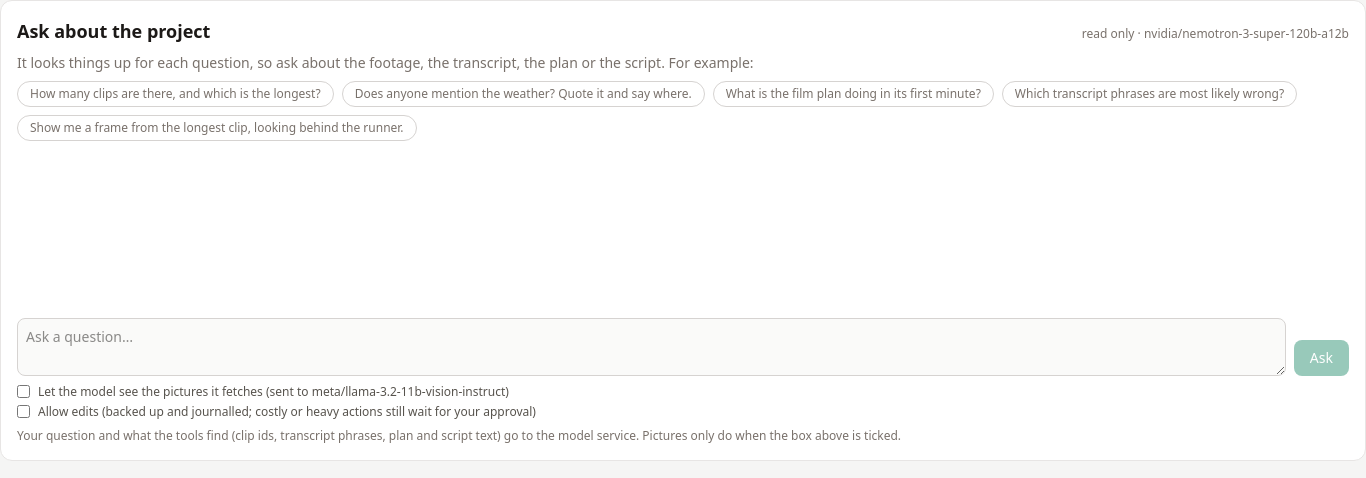
AskPage › shows the pictures the assistant fetched, each opening full size
Type "show me" into the text box named "Your question" at (651, 347), box [17,318,1286,376]
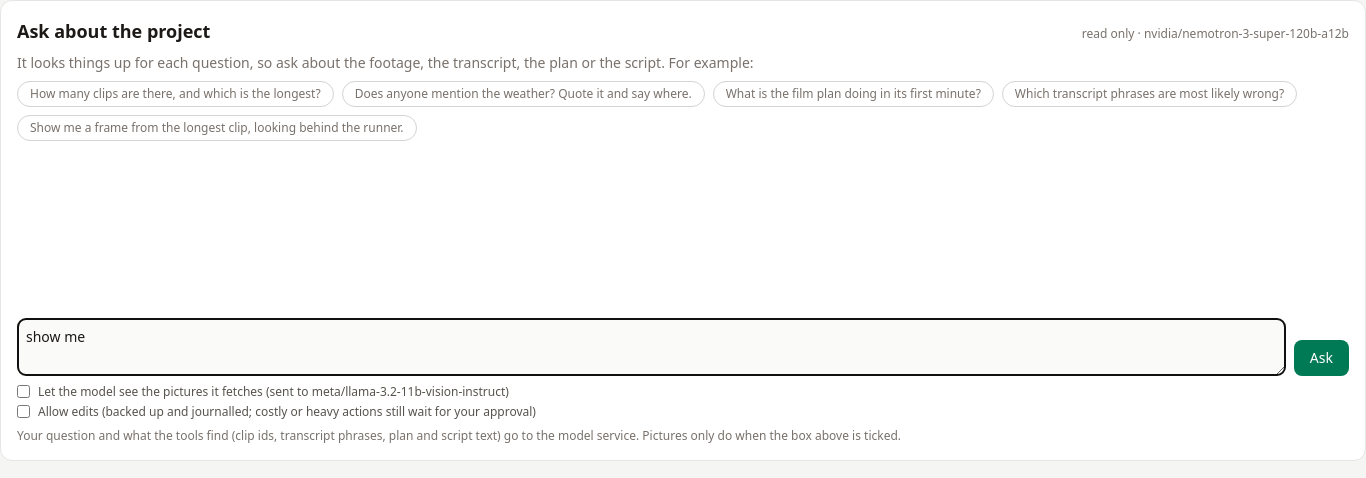
Click the button "Ask" at (1321, 358), box [1294,340,1349,376]
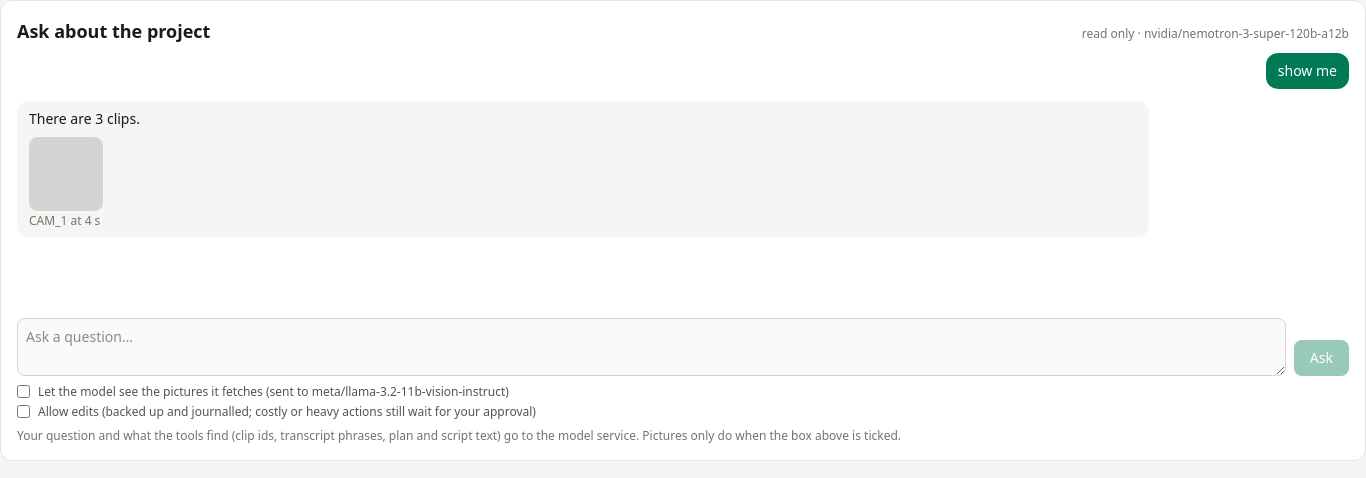
Result: the text "CAM_1 at 4 s" is shown at [29,213,103,229]
